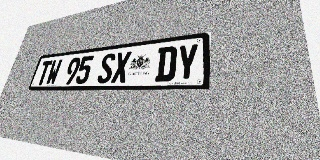5: (75, 55, 94, 84)
9: (63, 57, 82, 84)
D: (155, 45, 178, 82)
S: (96, 53, 116, 83)
T: (36, 60, 53, 85)
W: (45, 59, 63, 85)
X: (111, 51, 132, 83)
Y: (175, 43, 199, 81)
